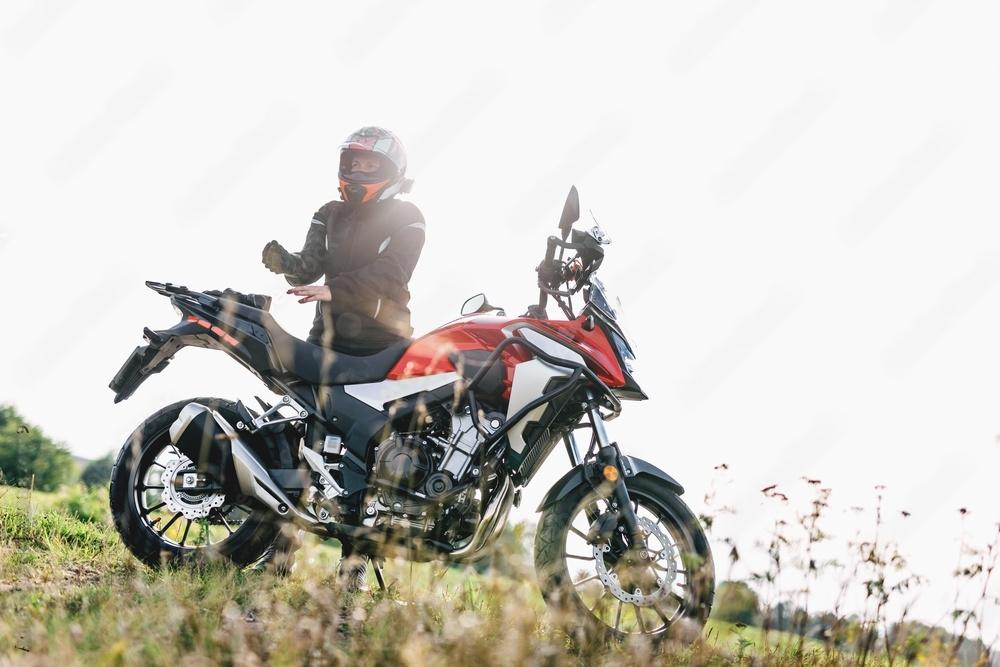helmet: (337, 125, 408, 209)
